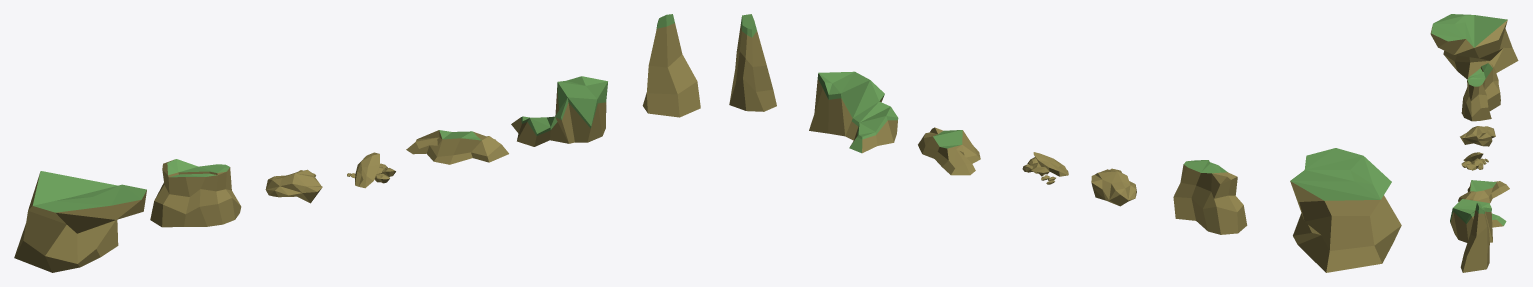
The model's file is LP_ROCKS_Spring.fbx.
The picture shows the model from 3 angles, left to right: view 1: azimuth 30°, elevation 25°; view 2: azimuth 150°, elevation 25°; view 3: azimuth 270°, elevation 25°; orthographic projection. The views are drawn at different scales.
Visible parts, largest first — view 1: Plane.007; view 2: Plane.007; view 3: Plane.007.
Part boxes in pixels (<box>): Plane.007: <box>14,14,700,272</box>; Plane.007: <box>729,14,1401,272</box>; Plane.007: <box>1430,14,1518,272</box>.
Size of the model in its own units: 4037 by 543 by 675.
